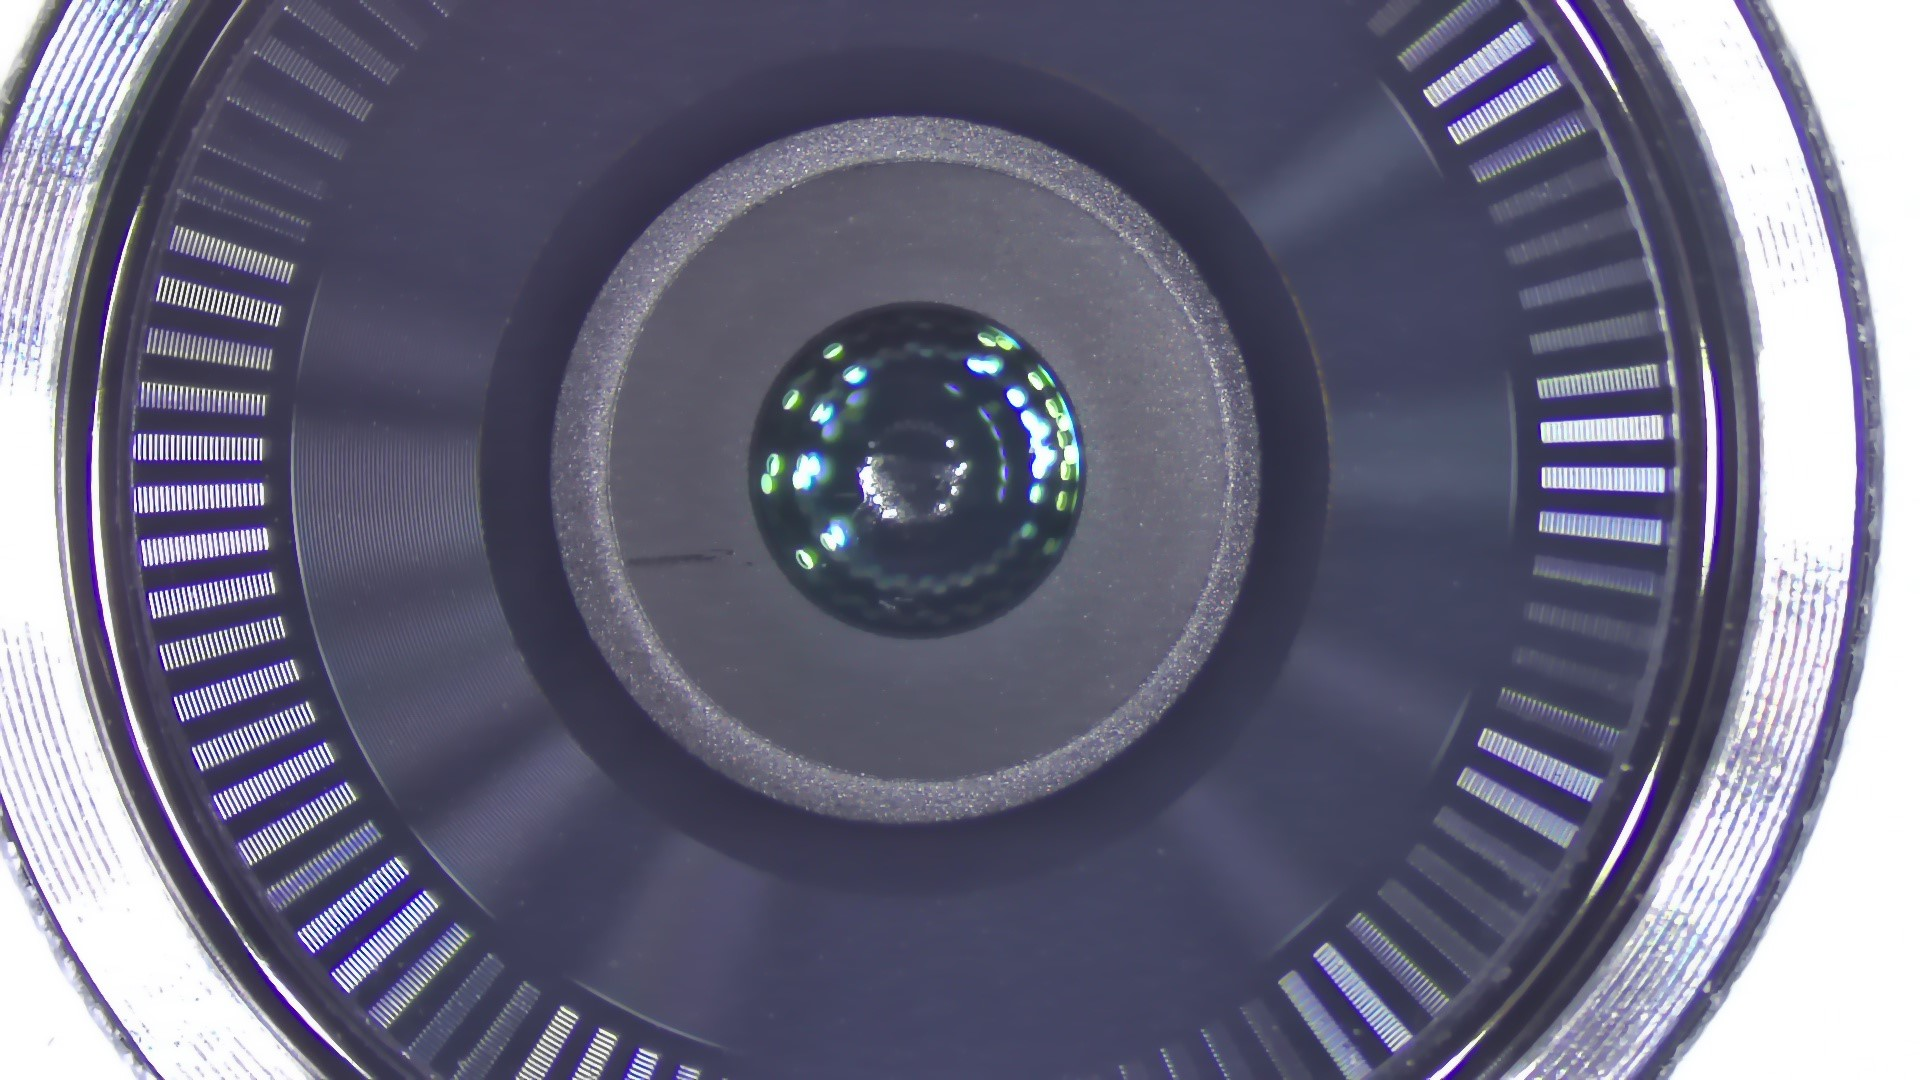crack: (609, 525, 773, 585)
